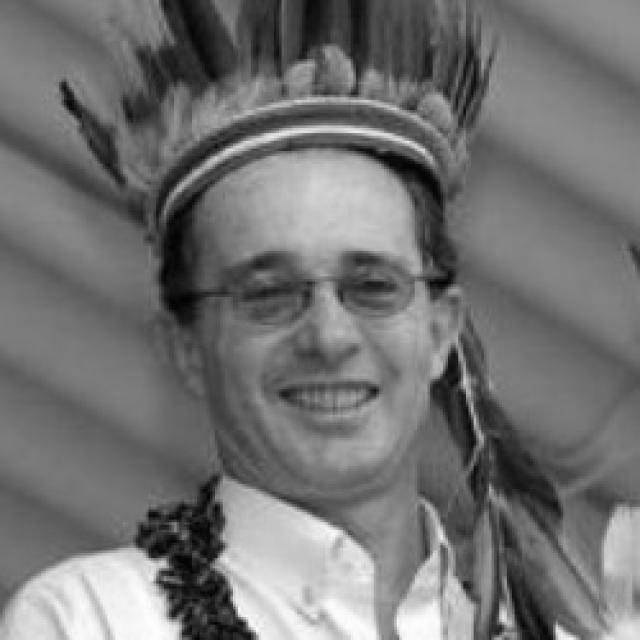real: (154, 141, 480, 503), (226, 241, 427, 331)
